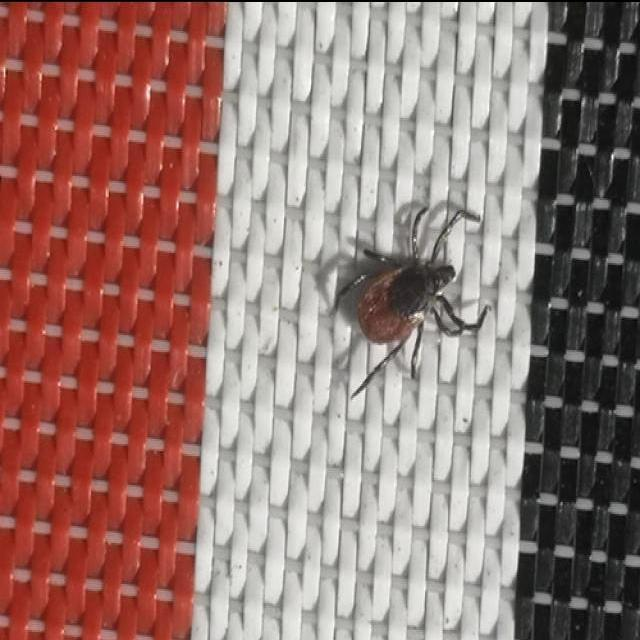Ixodes Ricinus-F: (338, 205, 492, 398)
